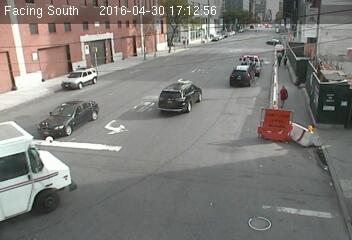neg: (270, 148, 301, 188), (26, 148, 54, 186), (62, 61, 89, 96), (220, 48, 246, 83), (236, 197, 261, 230), (187, 115, 211, 147), (95, 127, 118, 157), (144, 179, 166, 208), (152, 87, 170, 111), (171, 34, 187, 56)
pos: (272, 81, 291, 107)
